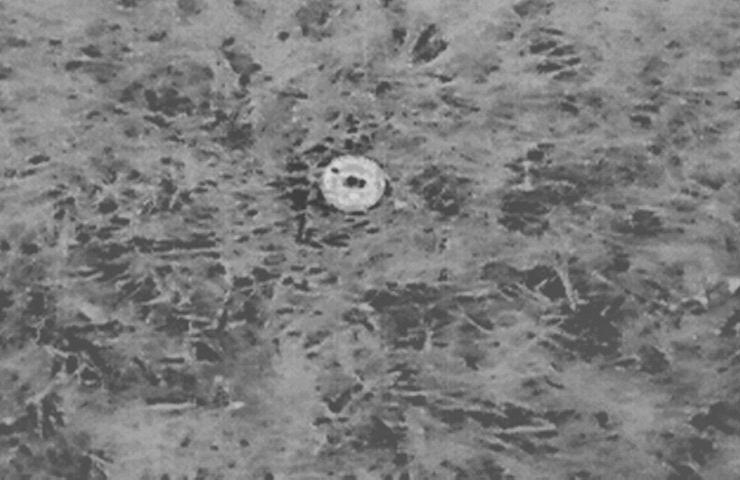landmines: (316, 148, 392, 221)
